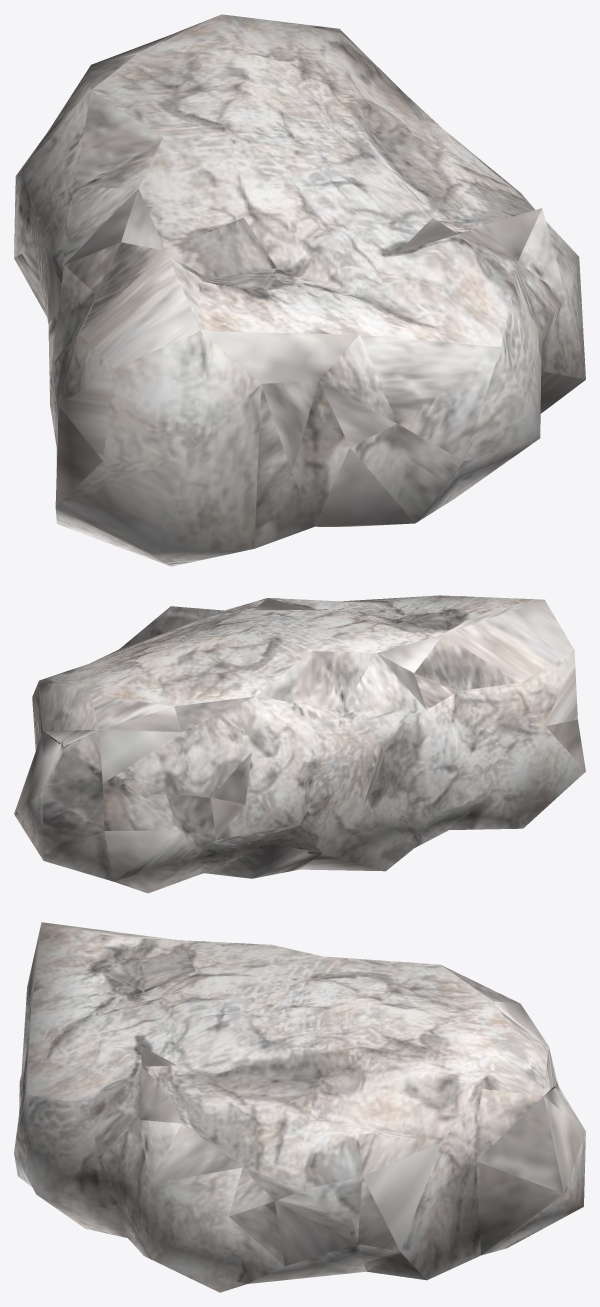
Rendered from SM_ground_rocks2.glb.
3 views of the same model, one above another, from view 1: azimuth 30°, elevation 25°; view 2: azimuth 150°, elevation 25°; view 3: azimuth 270°, elevation 25° (orthographic). The views are drawn at different scales.
Visible parts, largest first — view 1: SM_ground_rocks2; view 2: SM_ground_rocks2; view 3: SM_ground_rocks2.
Part boxes in pixels (left/top/right/bottom): SM_ground_rocks2: left=14, top=14, right=585, bottom=566; SM_ground_rocks2: left=14, top=595, right=585, bottom=893; SM_ground_rocks2: left=14, top=922, right=585, bottom=1292.
Bounding box in the file's own units: 0.4053 × 0.191 × 0.4304.
Materials: 1 (1 with a texture image).
